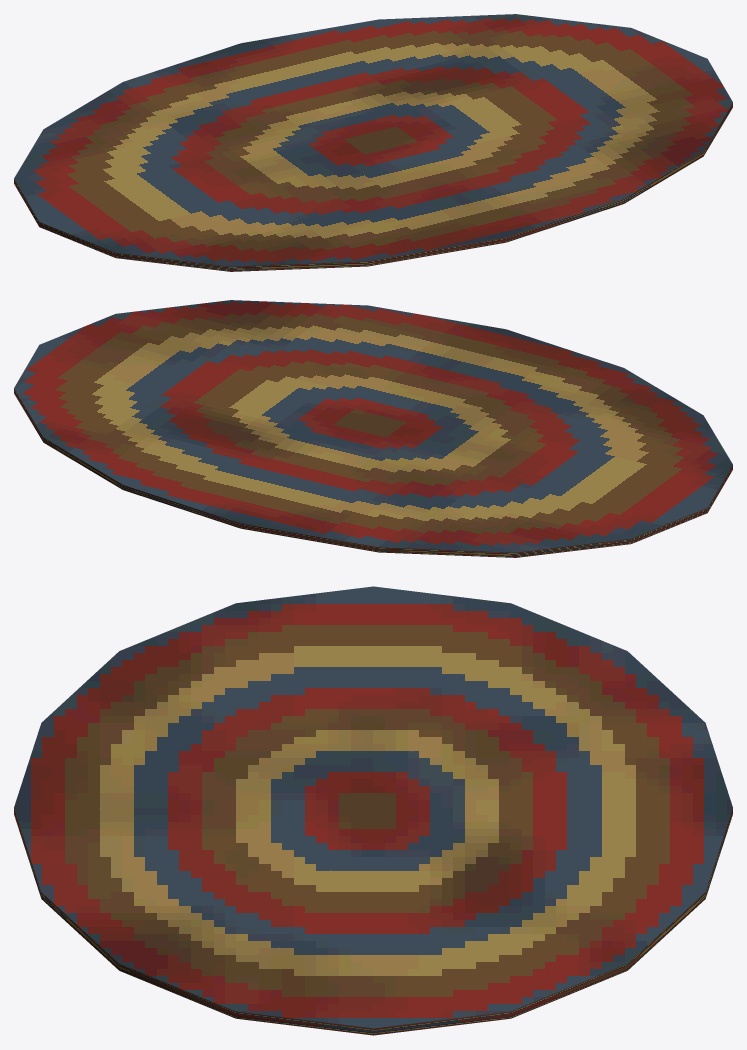
Rendered from rug_braided.glb.
3 views of the same model, one above another, from view 1: azimuth 30°, elevation 25°; view 2: azimuth 150°, elevation 25°; view 3: azimuth 270°, elevation 25° (orthographic). The views are drawn at different scales.
Visible parts, largest first — view 1: rug_braided; view 2: rug_braided; view 3: rug_braided.
Part boxes in pixels (x1=…): rug_braided: x1=14, y1=14, x2=732, y2=271; rug_braided: x1=14, y1=300, x2=732, y2=557; rug_braided: x1=14, y1=586, x2=732, y2=1035.
Bounding box in the file's own units: 1.6 × 0.012 × 1.1.
Materials: 1 (1 with a texture image).
